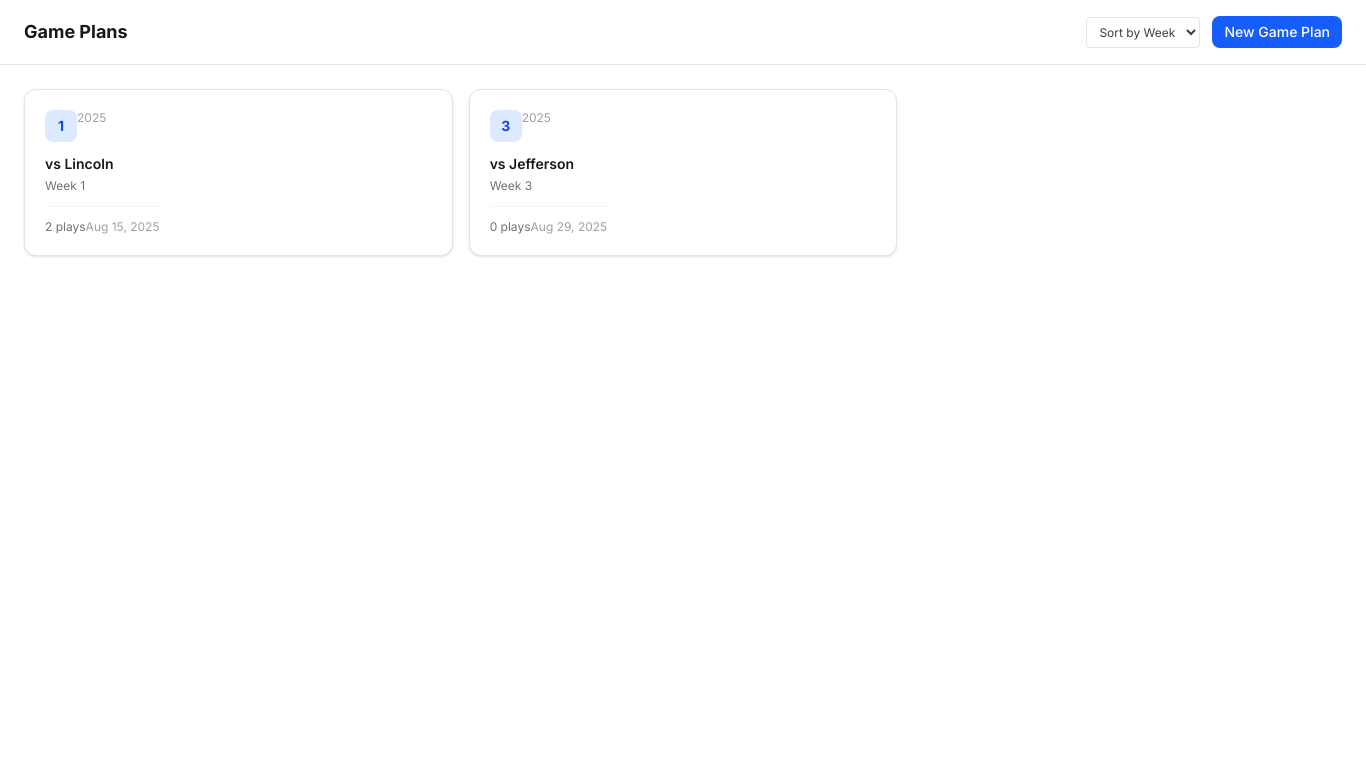
GamePlanListPage › opens create modal when New Game Plan is clicked
The width and height of the screenshot is (1366, 768).
Click the button with test id "new-gameplan-btn": (1277, 32) top-left (1212, 16), bottom-right (1342, 48)
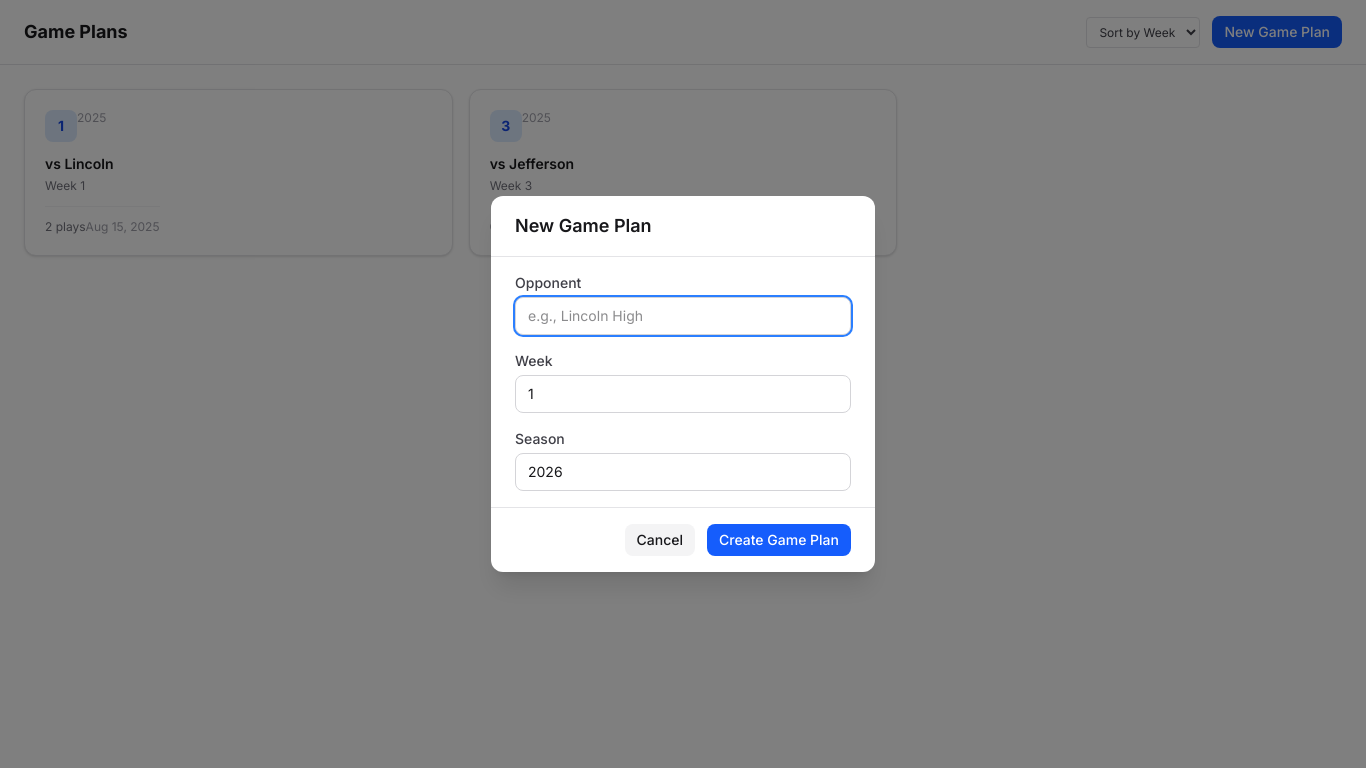
Now the field with test id "opponent-input" is shown, box top-left (515, 297), bottom-right (851, 335)
Now the number field with test id "week-input" is shown, box top-left (515, 375), bottom-right (851, 413)
Now the field with test id "season-input" is shown, box top-left (515, 453), bottom-right (851, 491)
